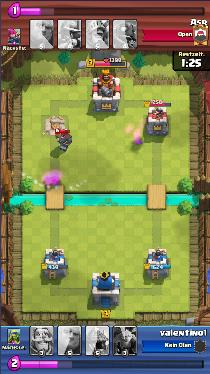enemy_hunter: (54, 131, 72, 151)
